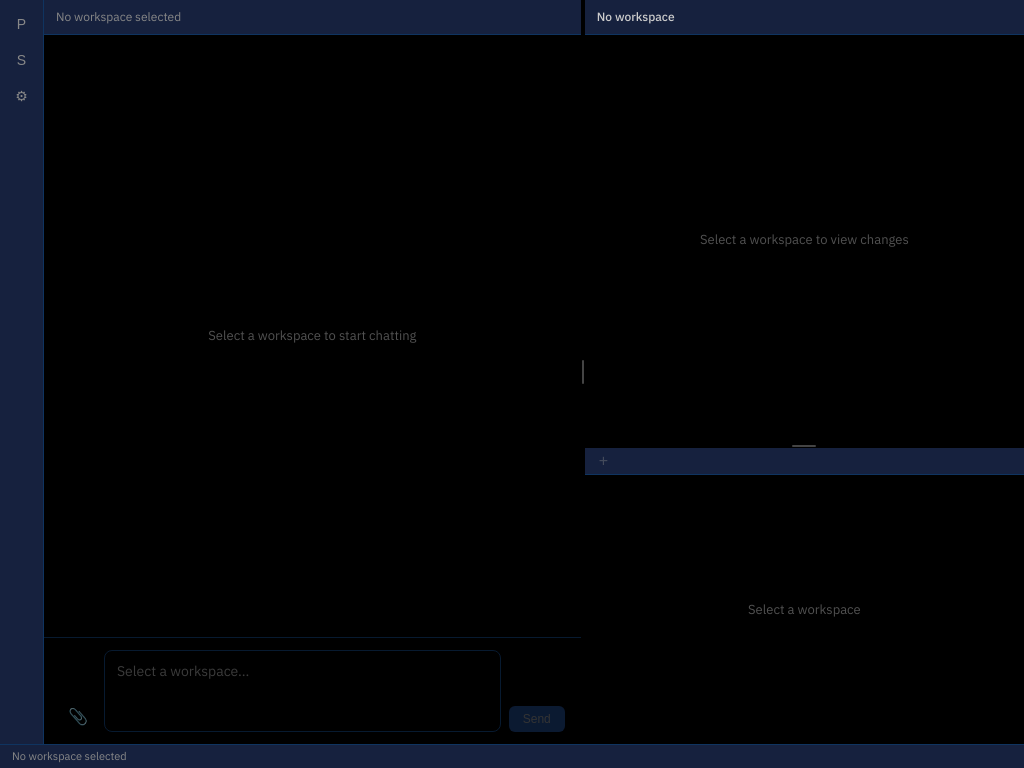
Workflow: Workspace Status Indicators › workspace count badge updates in project header
Click the button titled "projects".
click(22, 24)  # box [6, 8, 38, 40]
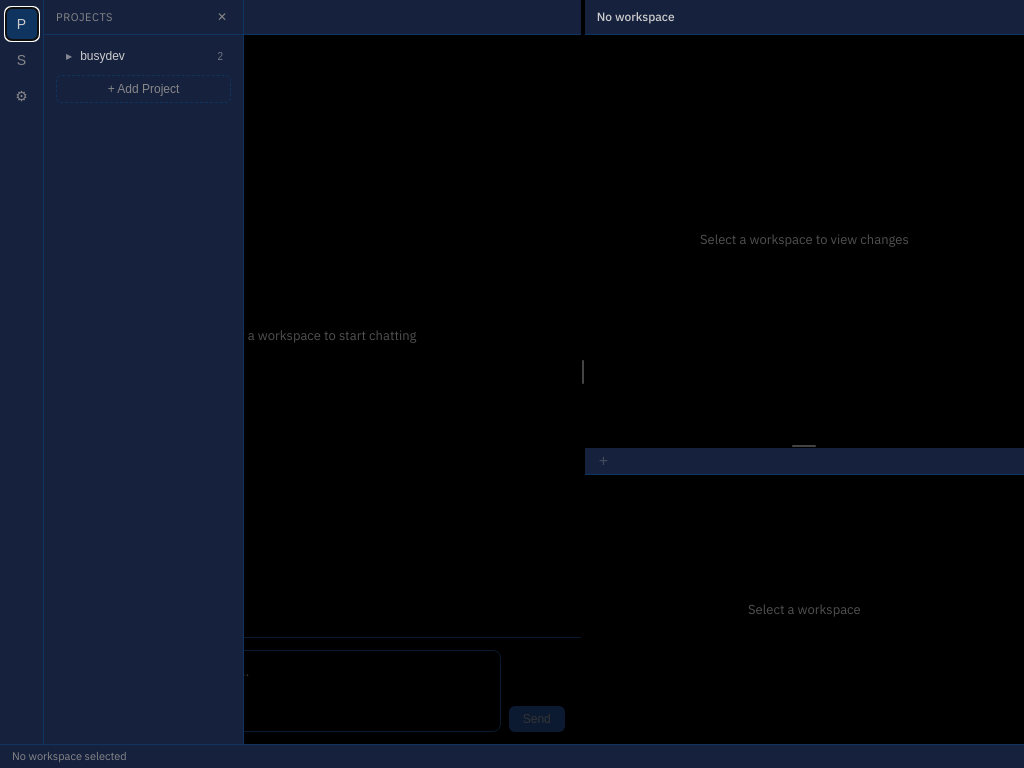
Check: the text "busydev" is shown, box [80, 49, 125, 63]
Check: the text "2" is shown, box [217, 50, 223, 62]
